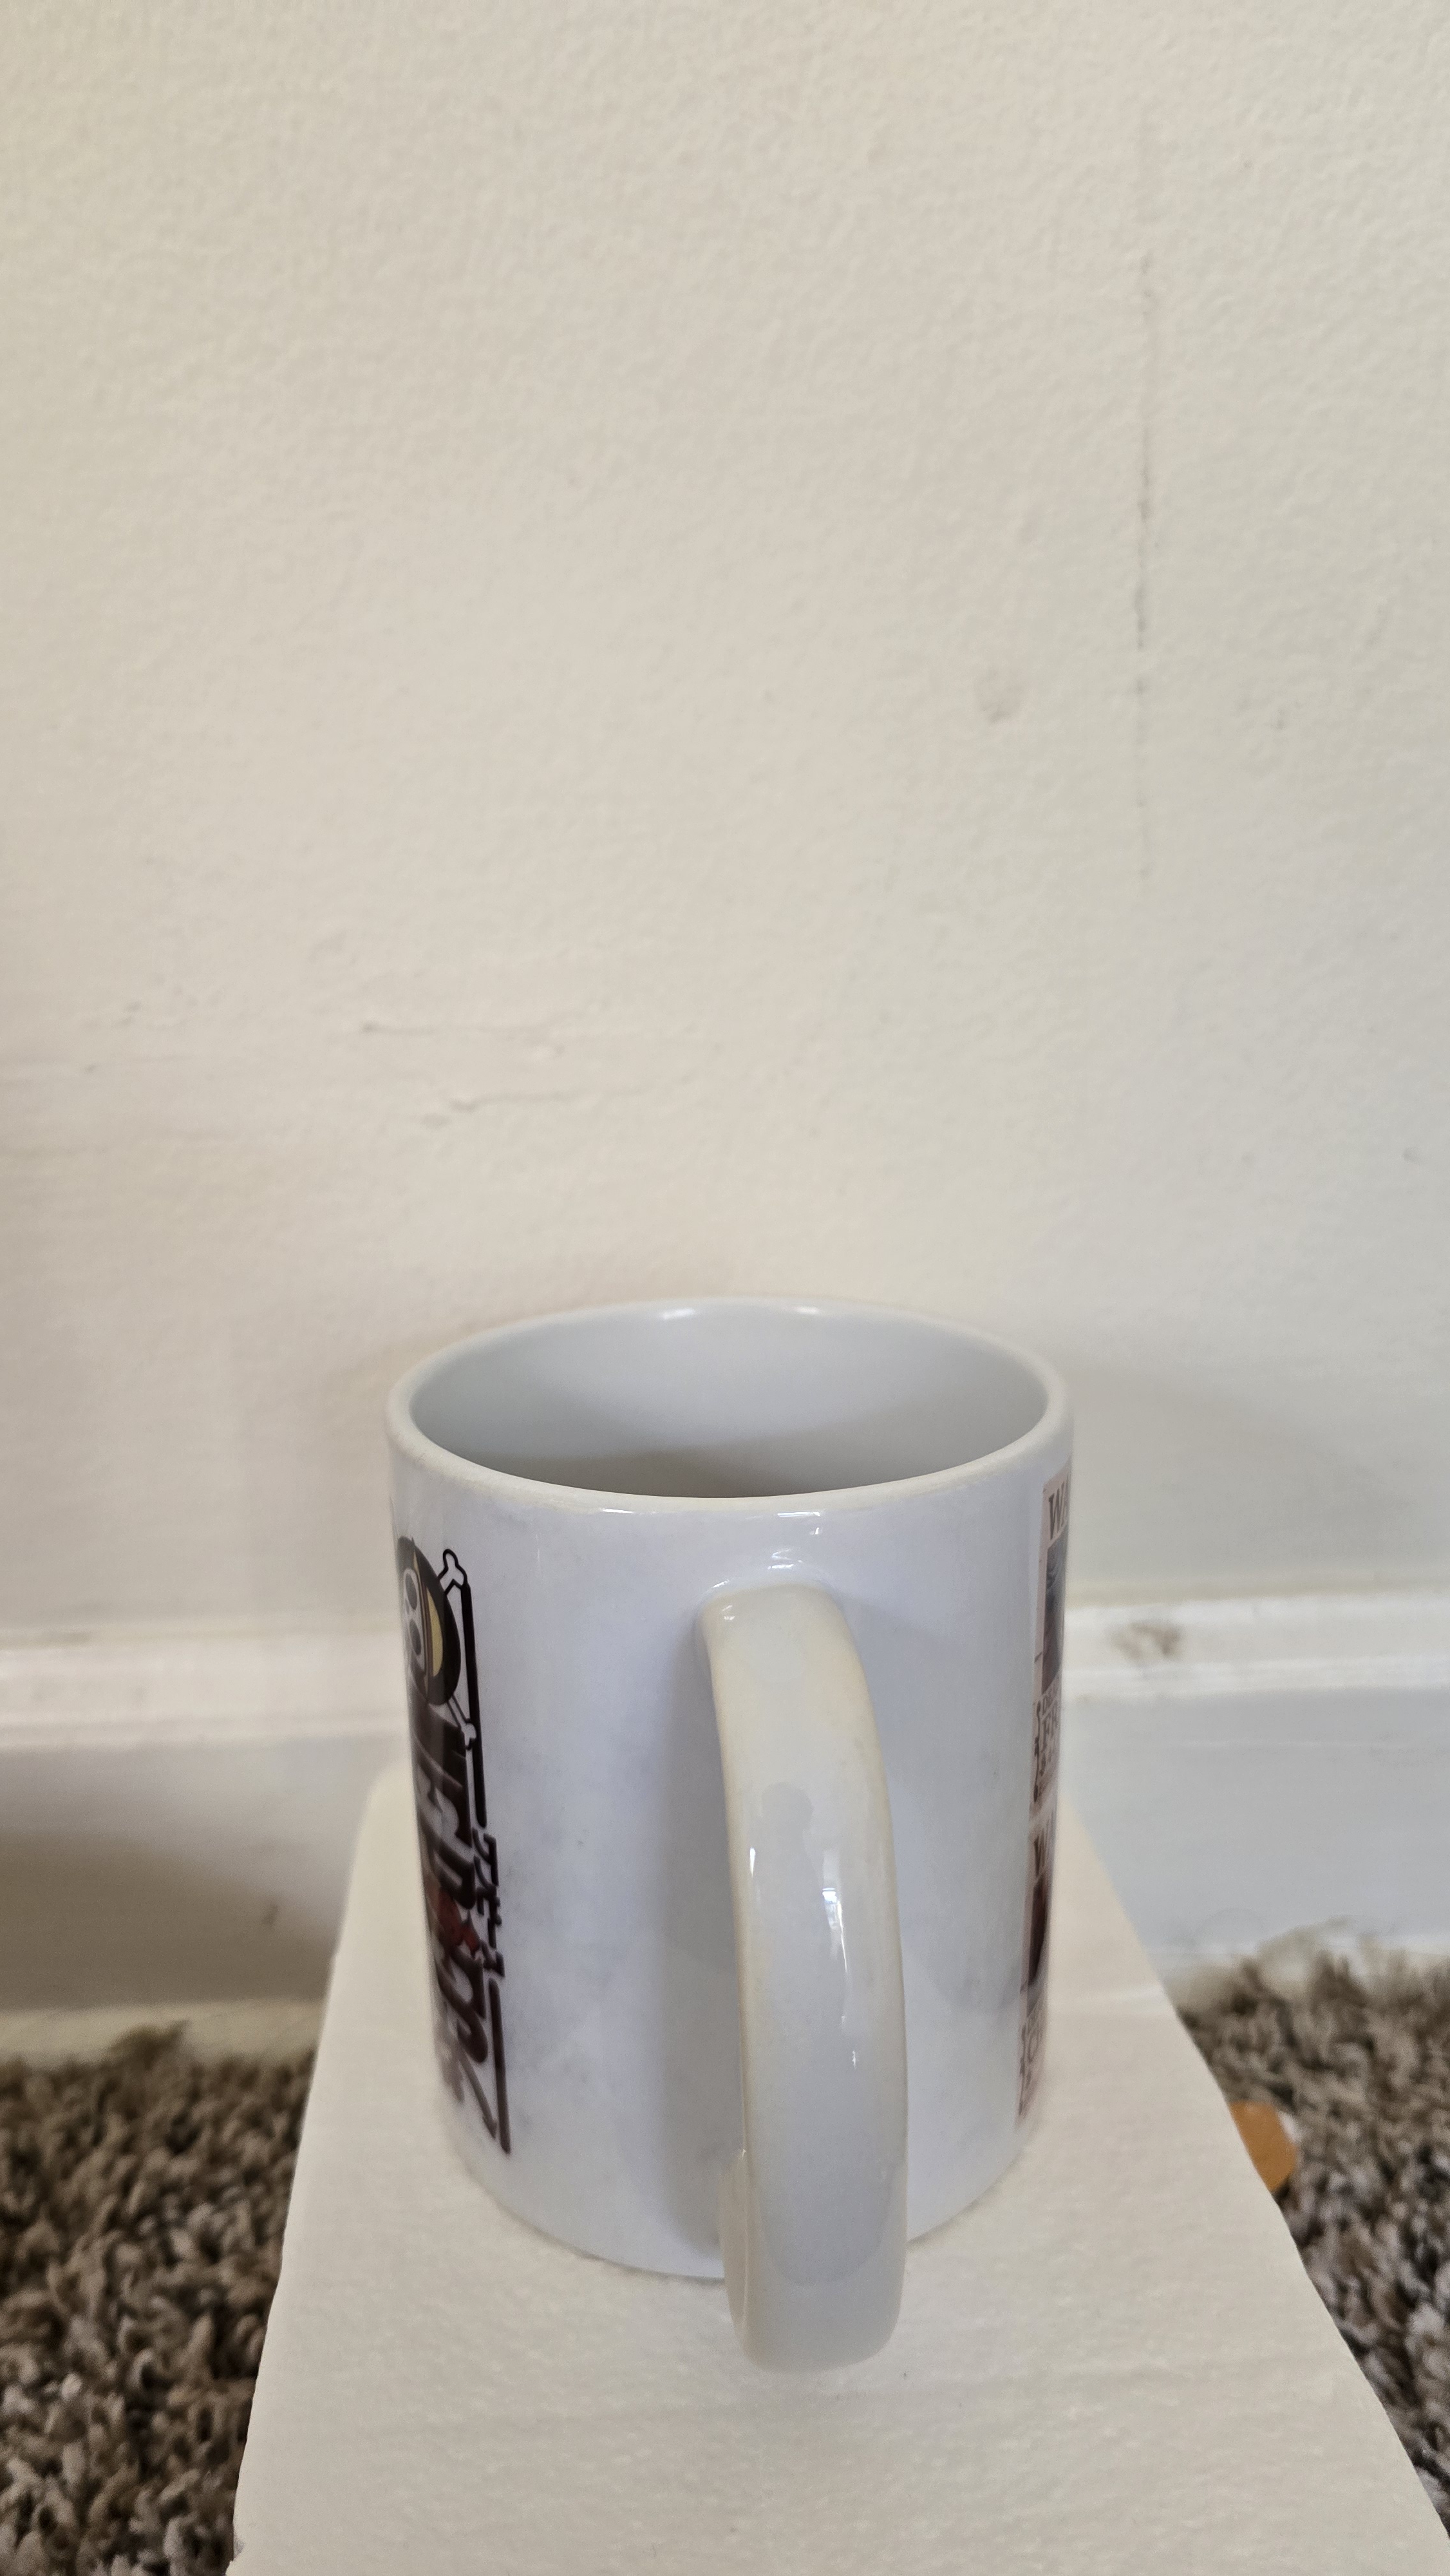mug: (354, 1258, 1174, 2404)
